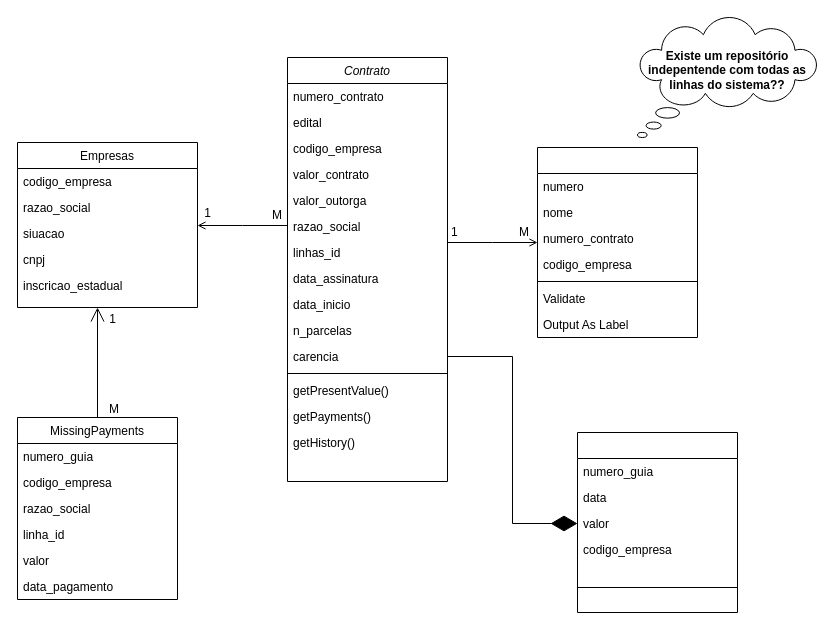
Image size: 835x630. Some labels were removed from this diagram. The box of each missing label's shape, as (x1, y1, x2, y2) in pixels:
Linha: (536, 146, 698, 338)
Pagamento: (576, 432, 738, 612)
